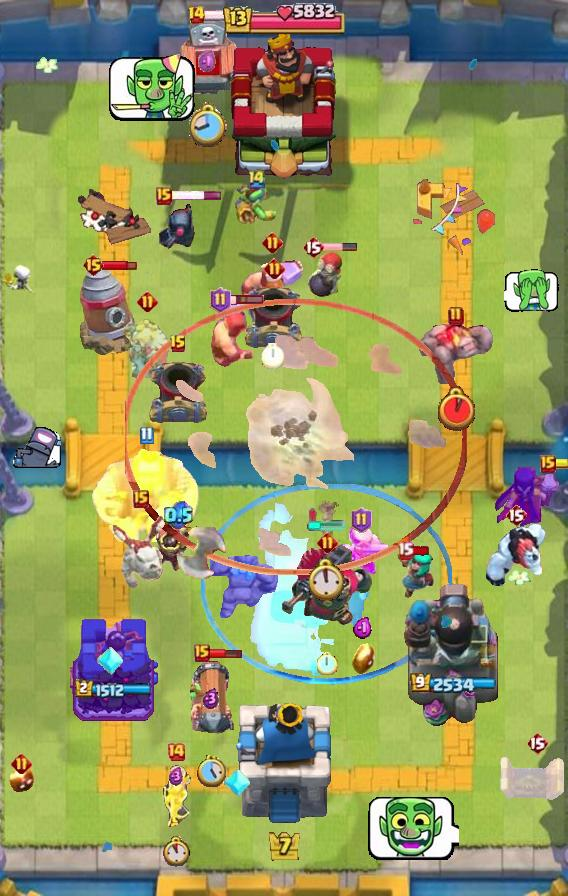archer: (161, 765, 191, 829)
axe: (173, 527, 239, 579)
bar: (170, 190, 223, 201), (228, 294, 265, 306), (204, 9, 241, 21), (102, 259, 137, 271), (207, 648, 243, 659), (322, 242, 358, 252), (412, 545, 431, 557), (554, 459, 568, 469)
bar-level: (82, 253, 105, 277), (351, 507, 372, 533), (210, 287, 231, 313), (526, 731, 548, 755), (505, 503, 527, 527), (302, 235, 324, 259), (11, 753, 32, 774), (317, 532, 338, 553), (137, 291, 158, 312), (264, 258, 285, 279), (262, 232, 283, 253), (247, 168, 267, 189), (166, 742, 186, 762), (187, 5, 206, 25), (169, 334, 187, 354), (397, 541, 414, 560), (448, 306, 464, 326), (194, 644, 210, 662), (133, 490, 149, 508), (540, 455, 556, 473), (156, 187, 172, 205), (139, 426, 154, 445)
barbarian-evolution: (334, 523, 388, 577)
bomber: (305, 251, 345, 299)
cannoneer-tower: (402, 579, 504, 731)
clock: (189, 102, 228, 149), (438, 386, 475, 431), (309, 557, 346, 600), (161, 836, 191, 867), (197, 755, 226, 787), (261, 343, 284, 369), (317, 651, 338, 675)
dirt: (314, 500, 340, 552)
elixir: (164, 501, 193, 530), (198, 49, 218, 74), (353, 617, 373, 639), (203, 688, 219, 709), (169, 767, 183, 786)
emote: (107, 46, 199, 126), (365, 793, 459, 864), (504, 268, 559, 312), (11, 427, 61, 470)
fire-spirit: (350, 640, 376, 676), (7, 764, 35, 794)
golemite: (210, 554, 282, 624), (419, 322, 493, 384)
ice-spirit-evolution-symbol: (223, 767, 251, 799), (96, 645, 124, 677)
king-tower: (222, 31, 346, 181), (235, 703, 333, 826)
king-tower-bar: (221, 0, 347, 40)
little-prince: (150, 518, 206, 574)
lumberjack: (240, 253, 304, 323), (205, 296, 261, 372)
mini-pekka: (155, 200, 197, 254)
mortar: (147, 359, 209, 427), (243, 284, 305, 352)
queen-tower: (70, 616, 158, 731)
rascal-girl: (394, 548, 436, 600)
royal-ghost: (120, 316, 174, 378)
skeleton: (1, 263, 35, 297)
spear-goblin: (233, 183, 281, 225)
tesla: (496, 755, 568, 803)
tower-bar: (410, 673, 497, 695), (75, 679, 153, 699)
witch: (492, 467, 568, 529)
